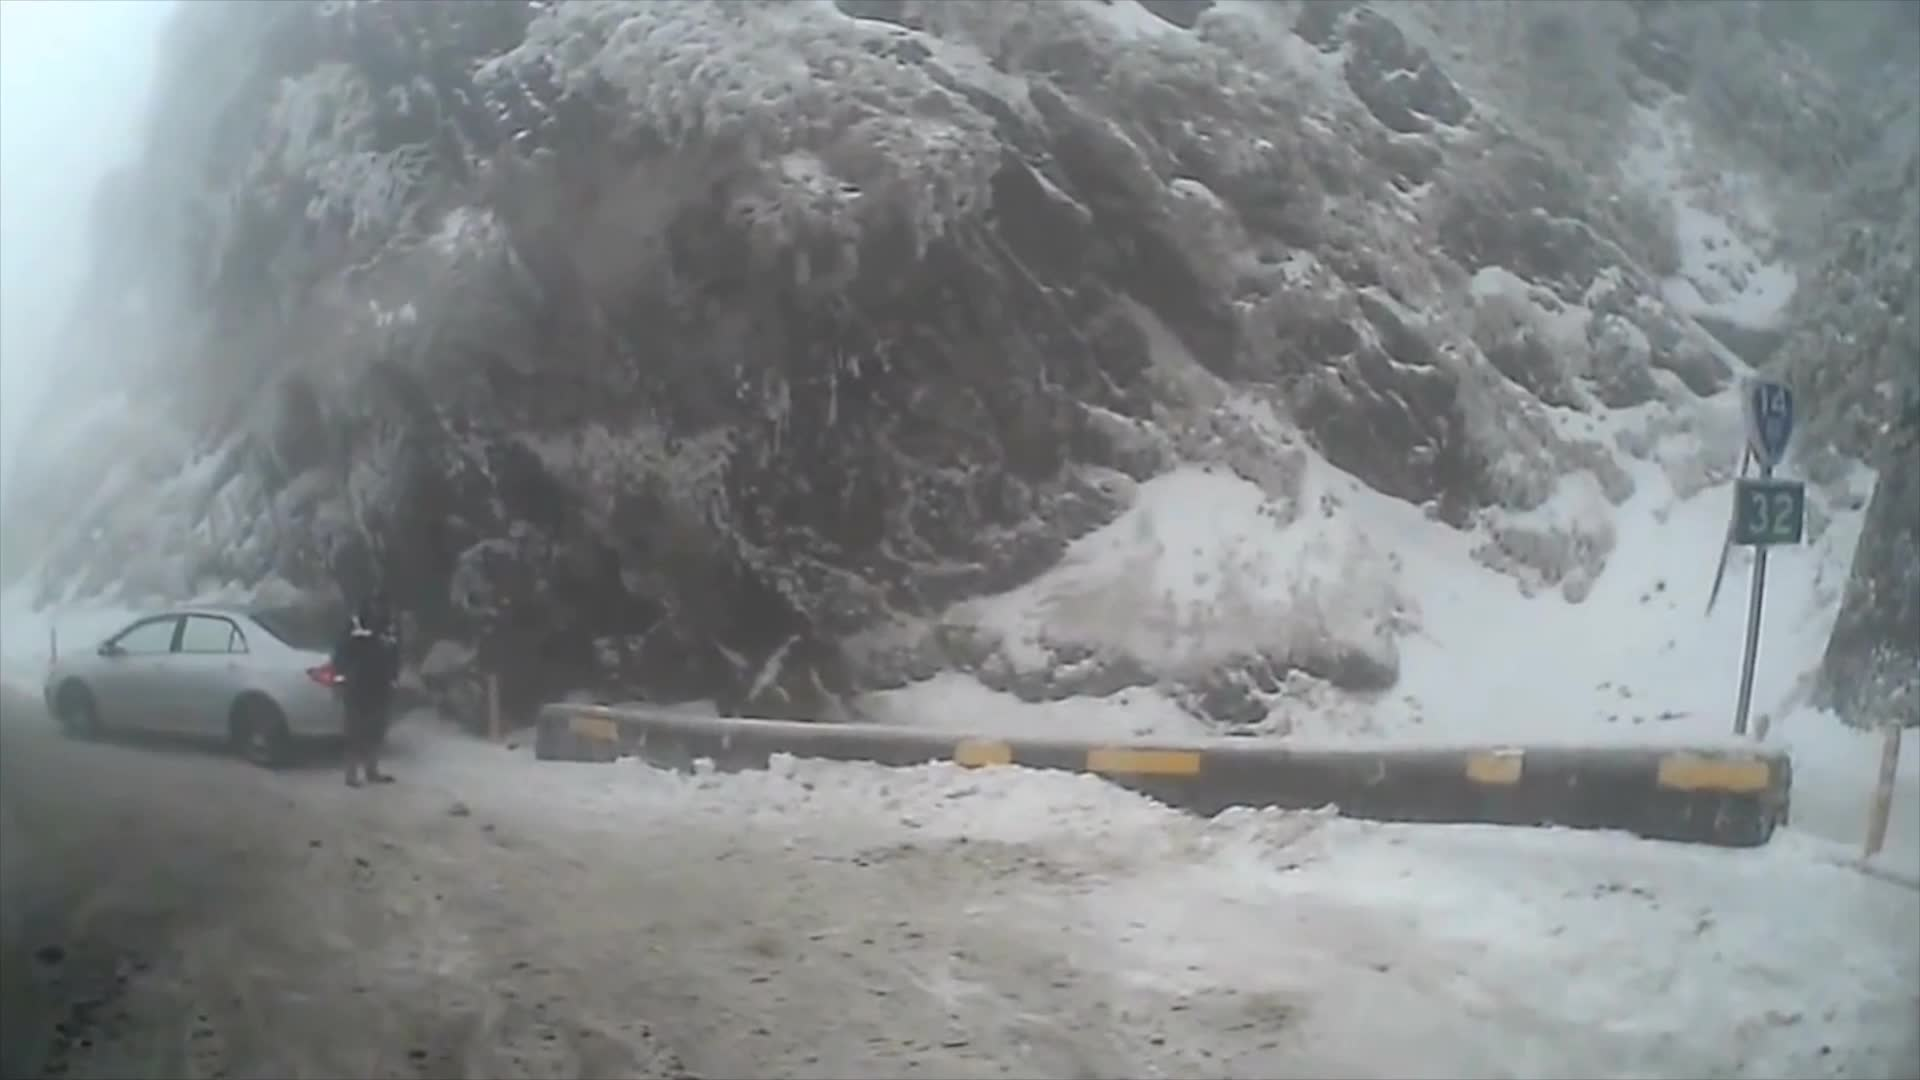pedestrian: (330, 580, 402, 782)
vehicle: (42, 599, 391, 768)
